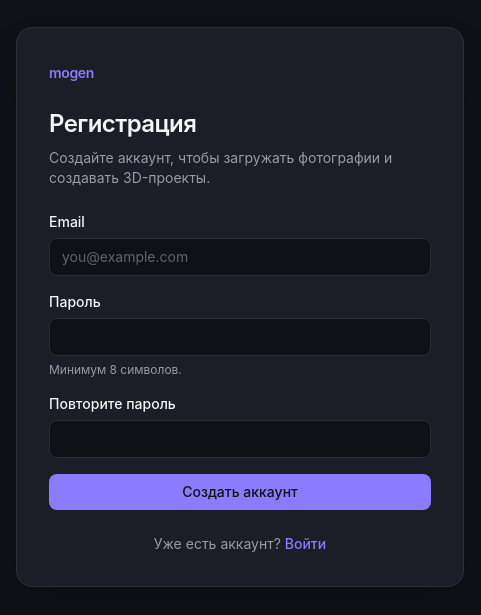
Scenario: RegisterPage › rejects mismatched passwords
This screenshot has width=481, height=615.
Type "user@example.com" into the field labelled "Email" at (240,257), box [49,238,431,276]
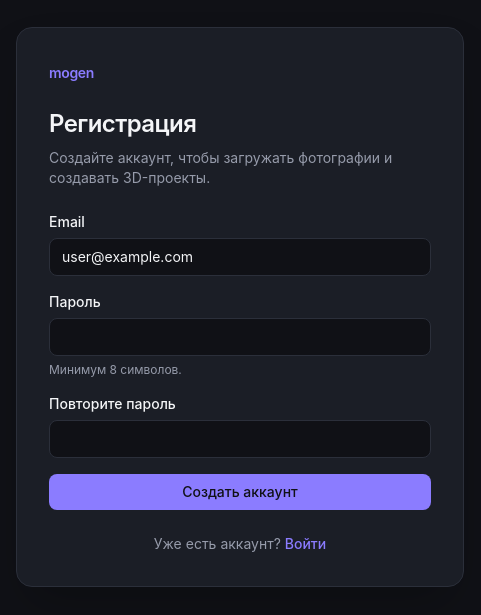
Type "password123" into the password field labelled "Пароль" at (240,337), box [49,318,431,356]
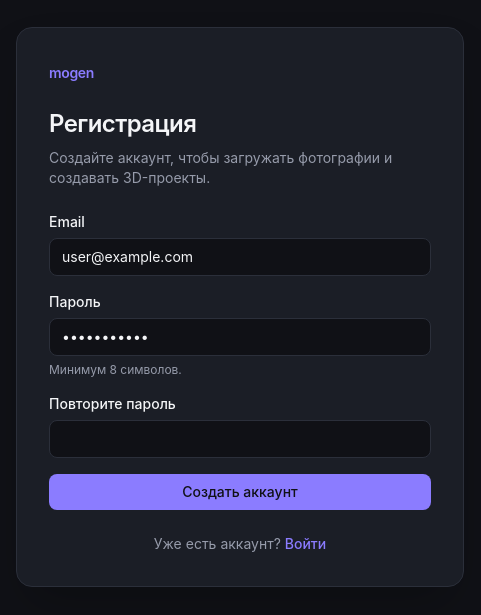
Type "password124" into the password field labelled "Повторите пароль" at (240,439), box [49,420,431,458]
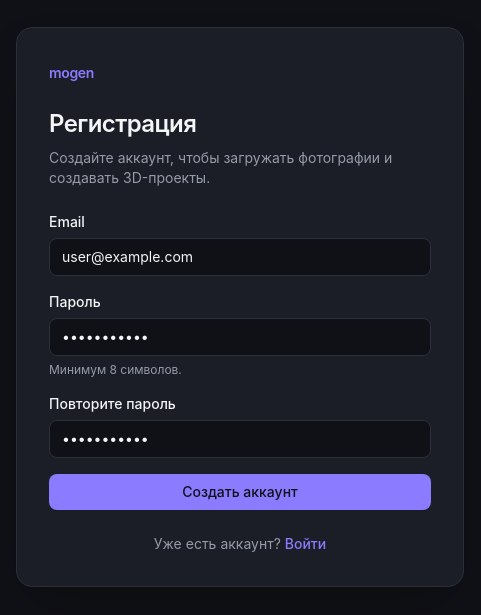
Click the button "Создать аккаунт" at (240,492), box [49,474,431,510]
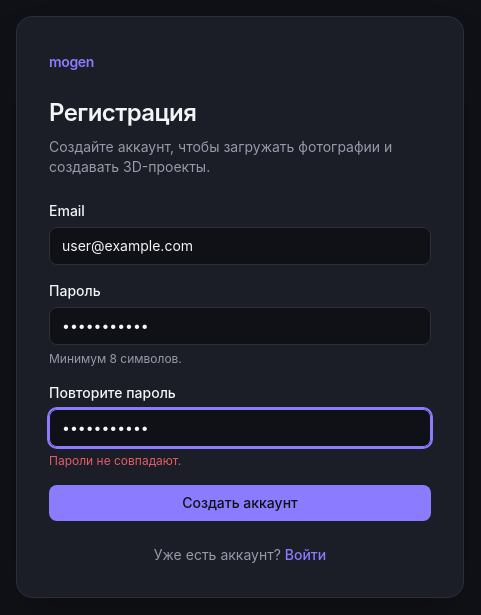
Now the text "Пароли не совпадают." is shown, box [49,453,181,468]
